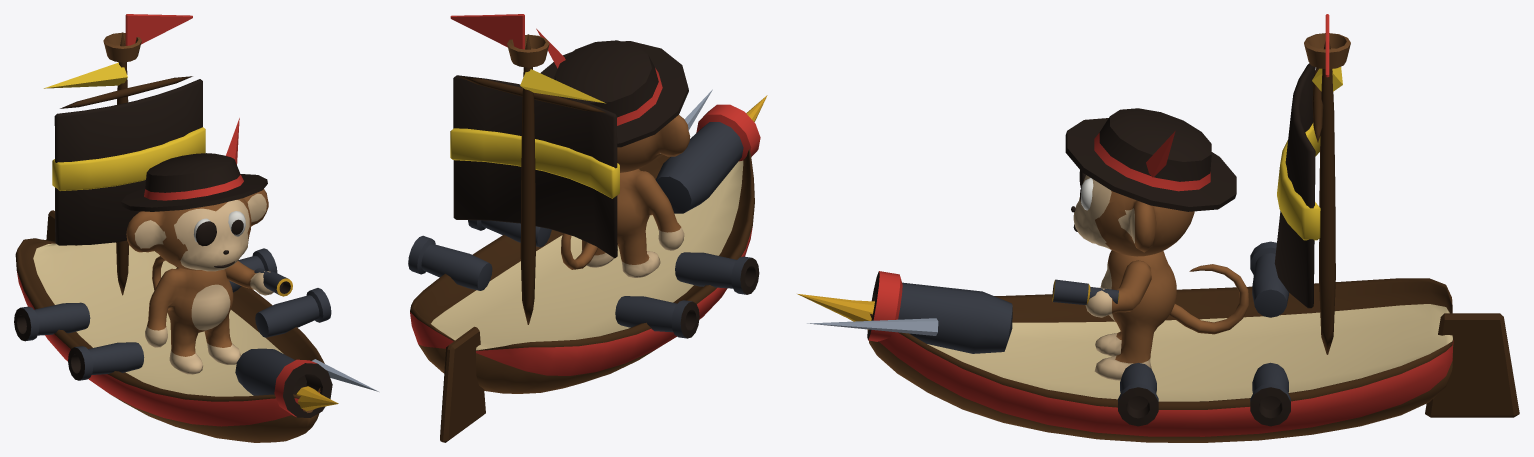
3 views of the same model, side by side, from view 1: azimuth 30°, elevation 25°; view 2: azimuth 150°, elevation 25°; view 3: azimuth 270°, elevation 25° (orthographic). The views are drawn at different scales.
Visible parts, largest first — view 1: bucaneiro_0_base, bucaneiro_3_cabeca, bucaneiro_1_corpo, bucaneiro_4_torreta, bucaneiro_5_braco; view 2: bucaneiro_0_base, bucaneiro_3_cabeca, bucaneiro_4_torreta, bucaneiro_1_corpo, bucaneiro_2_cauda; view 3: bucaneiro_0_base, bucaneiro_3_cabeca, bucaneiro_4_torreta, bucaneiro_1_corpo, bucaneiro_5_braco, bucaneiro_2_cauda.
Boxes of the visible parts, box(x1,y1,x2,y2) form: bucaneiro_0_base: box(14, 14, 378, 442); bucaneiro_3_cabeca: box(121, 118, 268, 271); bucaneiro_1_corpo: box(145, 267, 241, 374); bucaneiro_4_torreta: box(235, 348, 332, 417); bucaneiro_5_braco: box(225, 261, 292, 296); bucaneiro_0_base: box(408, 14, 767, 442); bucaneiro_3_cabeca: box(536, 28, 690, 172); bucaneiro_4_torreta: box(655, 104, 760, 213); bucaneiro_1_corpo: box(581, 169, 684, 277); bucaneiro_2_cauda: box(561, 233, 597, 269); bucaneiro_0_base: box(797, 14, 1519, 442); bucaneiro_3_cabeca: box(1065, 108, 1236, 256); bucaneiro_4_torreta: box(867, 271, 1012, 353); bucaneiro_1_corpo: box(1094, 250, 1176, 380); bucaneiro_5_braco: box(1052, 260, 1151, 317); bucaneiro_2_cauda: box(1169, 264, 1249, 334).
Bounding box in the file's own units: 1.12 × 1.43 × 2.3.
